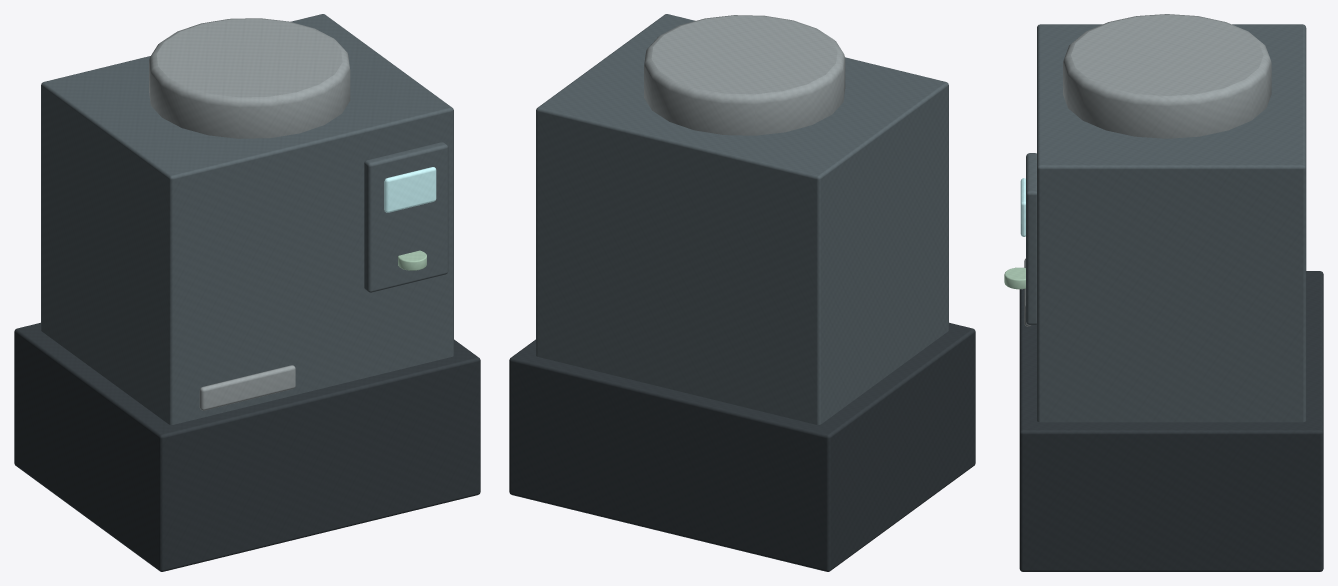
Rendered from LabCentrifuge.glb.
3 renders of one model, left to right at view 1: azimuth 30°, elevation 25°; view 2: azimuth 150°, elevation 25°; view 3: azimuth 270°, elevation 25°, orthographic. The views are drawn at different scales.
Visible parts, largest first — view 1: LabCentrifuge_Mesh; view 2: LabCentrifuge_Mesh; view 3: LabCentrifuge_Mesh.
Part boxes in pixels (x1,y1,x2,y2): LabCentrifuge_Mesh: (14, 14, 480, 571); LabCentrifuge_Mesh: (509, 14, 975, 571); LabCentrifuge_Mesh: (1004, 14, 1323, 571).
Bounding box in the file's own units: 0.88 × 1.11 × 0.735.
5 materials, 5 textured.
